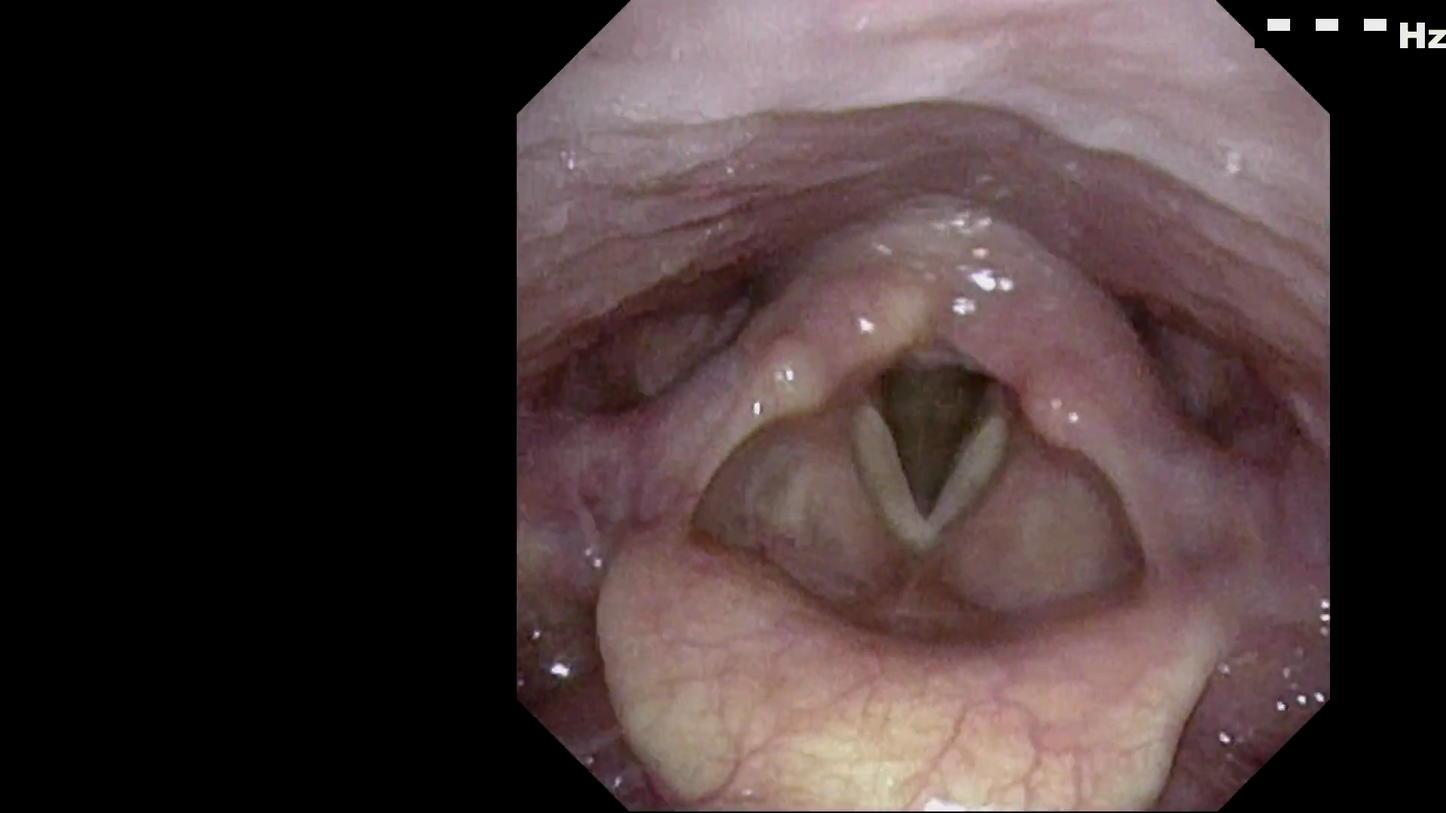epiglottis: (589, 525, 1211, 761)
trachea: (843, 327, 1022, 552)
